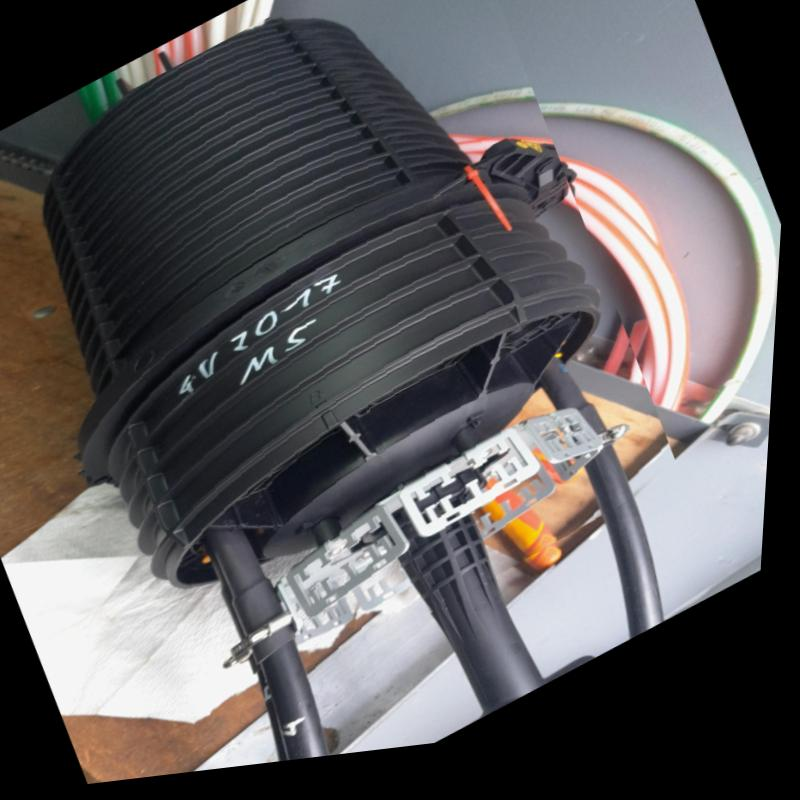NT-Muffen: (0, 0, 720, 772)
